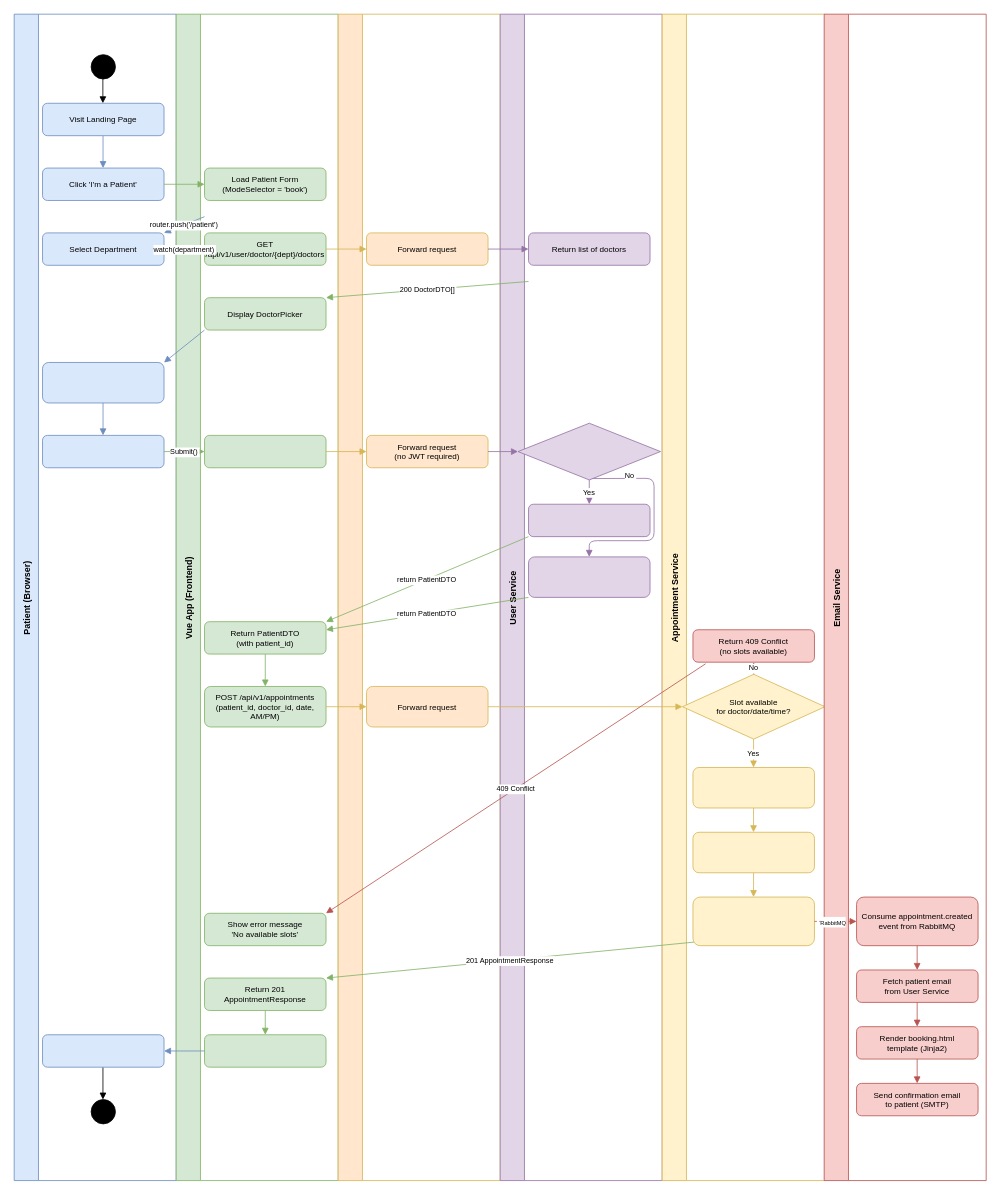
Image size: 1000x1195. Some labels were removed from this diagram. Here are the shapes that lost their labels. From the top down, the box of each, then its label:
(42, 362, 164, 403): Fill booking form (name, DOB, email, date, time, doctor)
(42, 435, 164, 468): Click 'Confirm Booking'
(204, 435, 326, 468): POST /api/v1/user/patients (find-or-create)
(517, 422, 661, 480): Patient exists by email?
(528, 503, 650, 537): Return existing patient
(528, 556, 650, 597): INSERT new patient (name, DOB, gender, email, phone)
(337, 13, 500, 1181): API Gateway
(692, 767, 814, 808): Assign next available time slot in queue
(692, 831, 814, 873): INSERT Appointment (status=scheduled)
(692, 896, 814, 946): Publish AppointmentMessage - appointment.created - appointment.status_changed
(42, 1034, 164, 1067): See booking confirmation screen
(204, 1034, 326, 1067): Show 'Booking Confirmed!' success state
